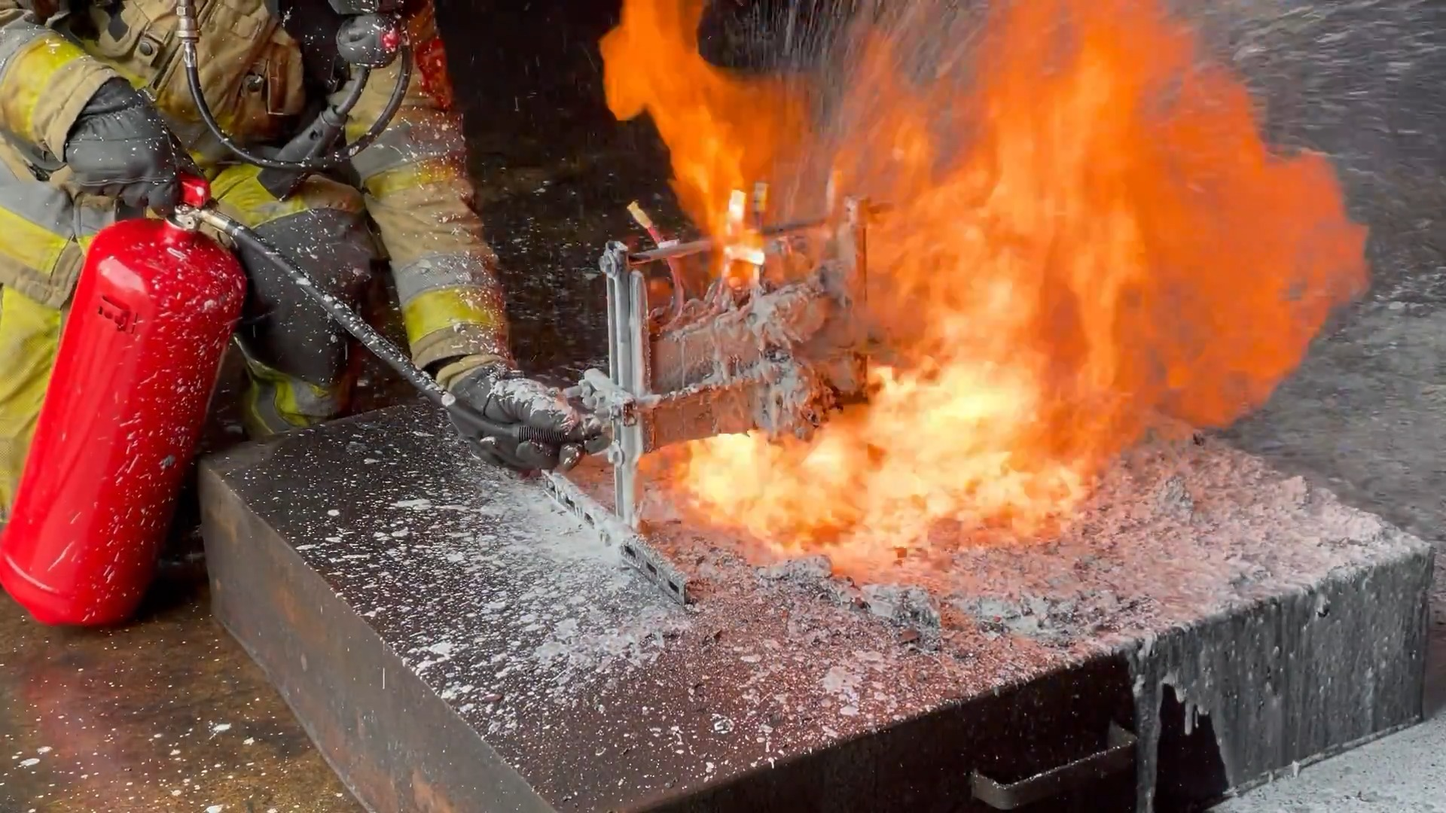fire: (596, 0, 1370, 590)
